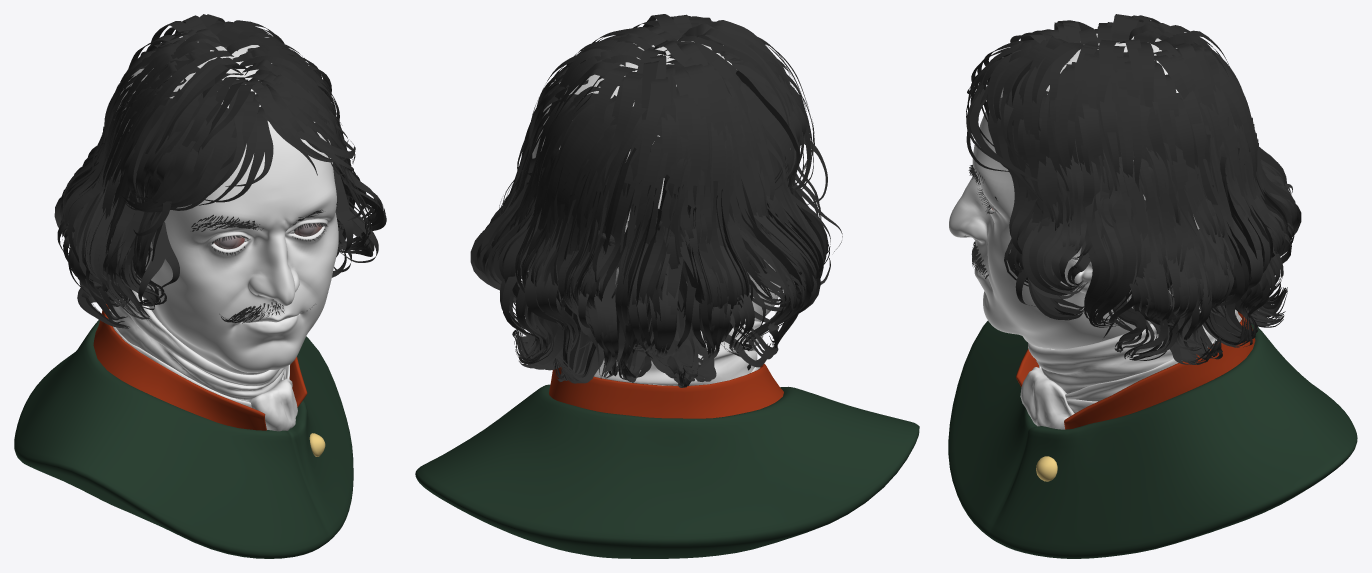
File: PeterHeadSimpleHairMesh.glb
The picture shows the model from 3 angles, left to right: view 1: azimuth 30°, elevation 25°; view 2: azimuth 150°, elevation 25°; view 3: azimuth 270°, elevation 25°; orthographic projection. The views are drawn at different scales.
Parts seen in each view (by area): view 1: HairSimple, Green_Jacket, PeterHead, White_Scarf, Red_Collar, BrowsSimple, MoustacheSimple; view 2: HairSimple, Green_Jacket, Red_Collar, White_Scarf, PeterHead; view 3: HairSimple, Green_Jacket, PeterHead, White_Scarf, Red_Collar.
Boxes of the visible parts, x1,y1,x2,y2 form: HairSimple: (54, 14, 386, 328); Green_Jacket: (14, 320, 353, 558); PeterHead: (116, 40, 338, 374); White_Scarf: (109, 290, 297, 431); Red_Collar: (93, 304, 307, 430); BrowsSimple: (191, 202, 337, 231); MoustacheSimple: (219, 302, 313, 323); HairSimple: (470, 14, 842, 387); Green_Jacket: (415, 384, 919, 558); Red_Collar: (549, 363, 783, 418); White_Scarf: (594, 321, 763, 385); PeterHead: (532, 40, 780, 321); HairSimple: (966, 14, 1301, 364); Green_Jacket: (948, 321, 1357, 558); PeterHead: (949, 33, 1199, 349); White_Scarf: (1020, 307, 1241, 429); Red_Collar: (1016, 311, 1255, 429).
Bounding box in the file's own units: 0.2882 × 0.3637 × 0.2743.
Materials: 7 (2 with a texture image).
